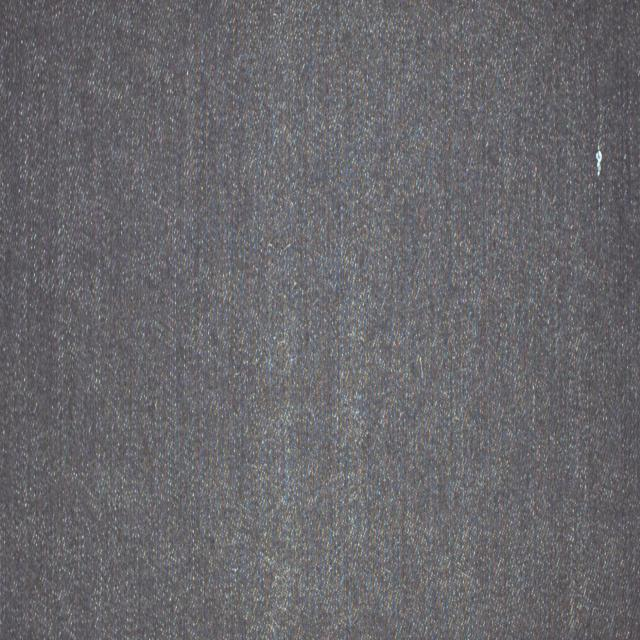Knot: (596, 143, 605, 176)
